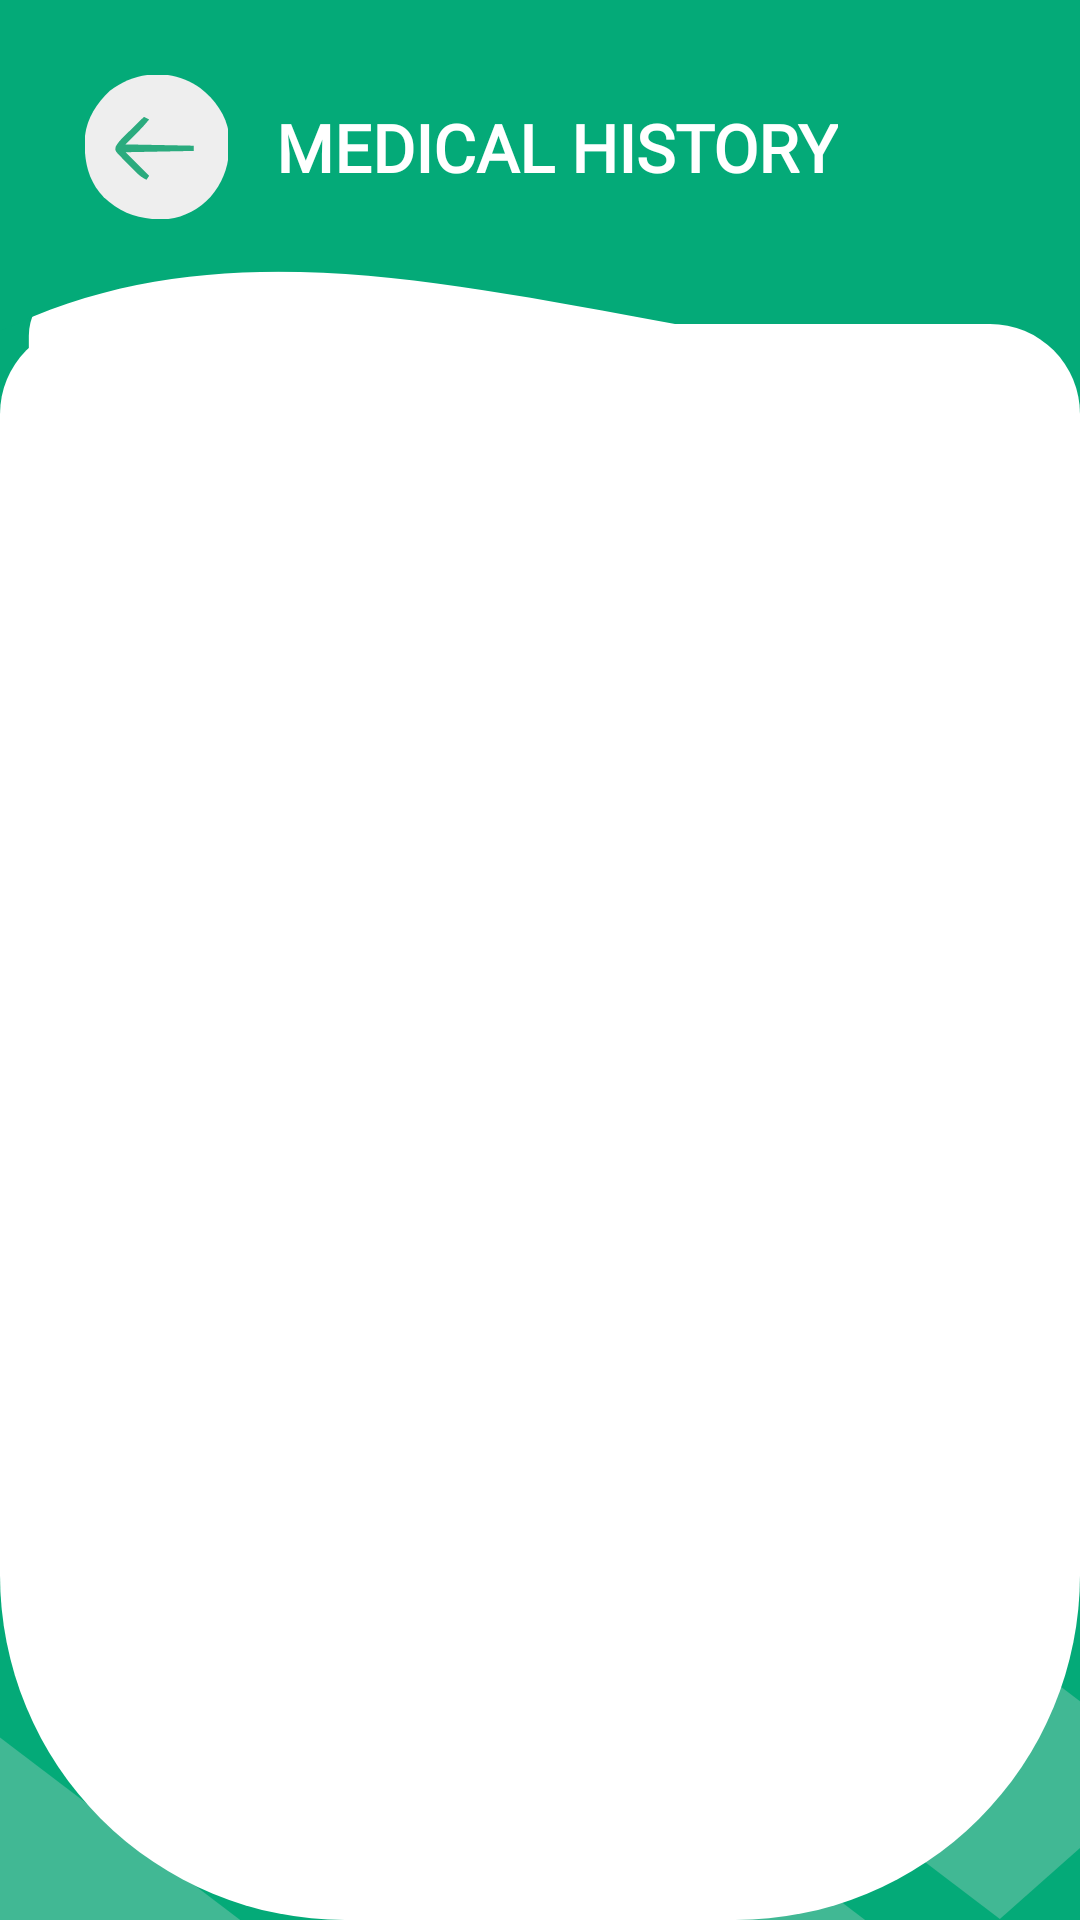

Icons on this 1080x1920 Android screen, each with the point to tap as point (x, y):
arrow back: point (156, 147)
